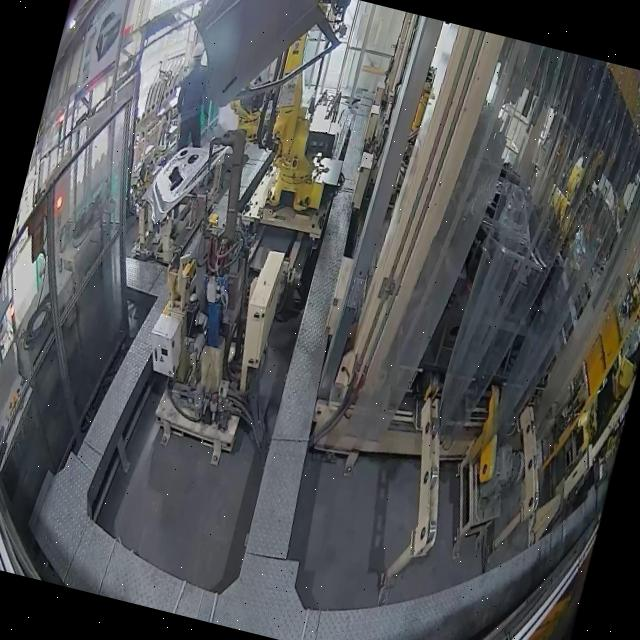Person: (164, 38, 226, 156), (6, 386, 20, 421)
